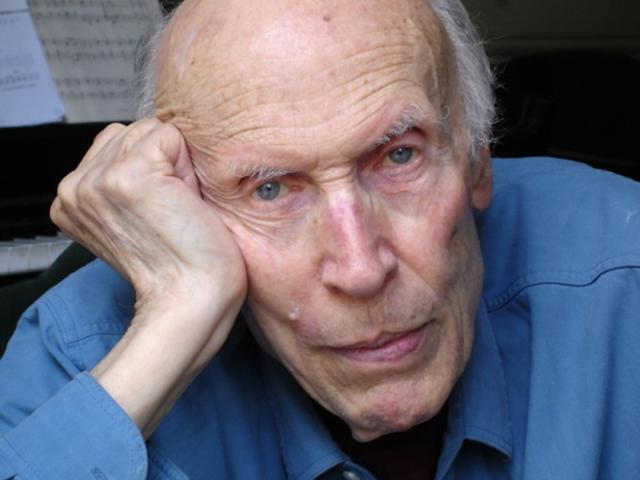forehead: (346, 44, 406, 106), (212, 88, 258, 136)
frown_line: (313, 158, 357, 190)
gummy_smile: (397, 247, 437, 289)
masseter: (444, 294, 466, 354)
